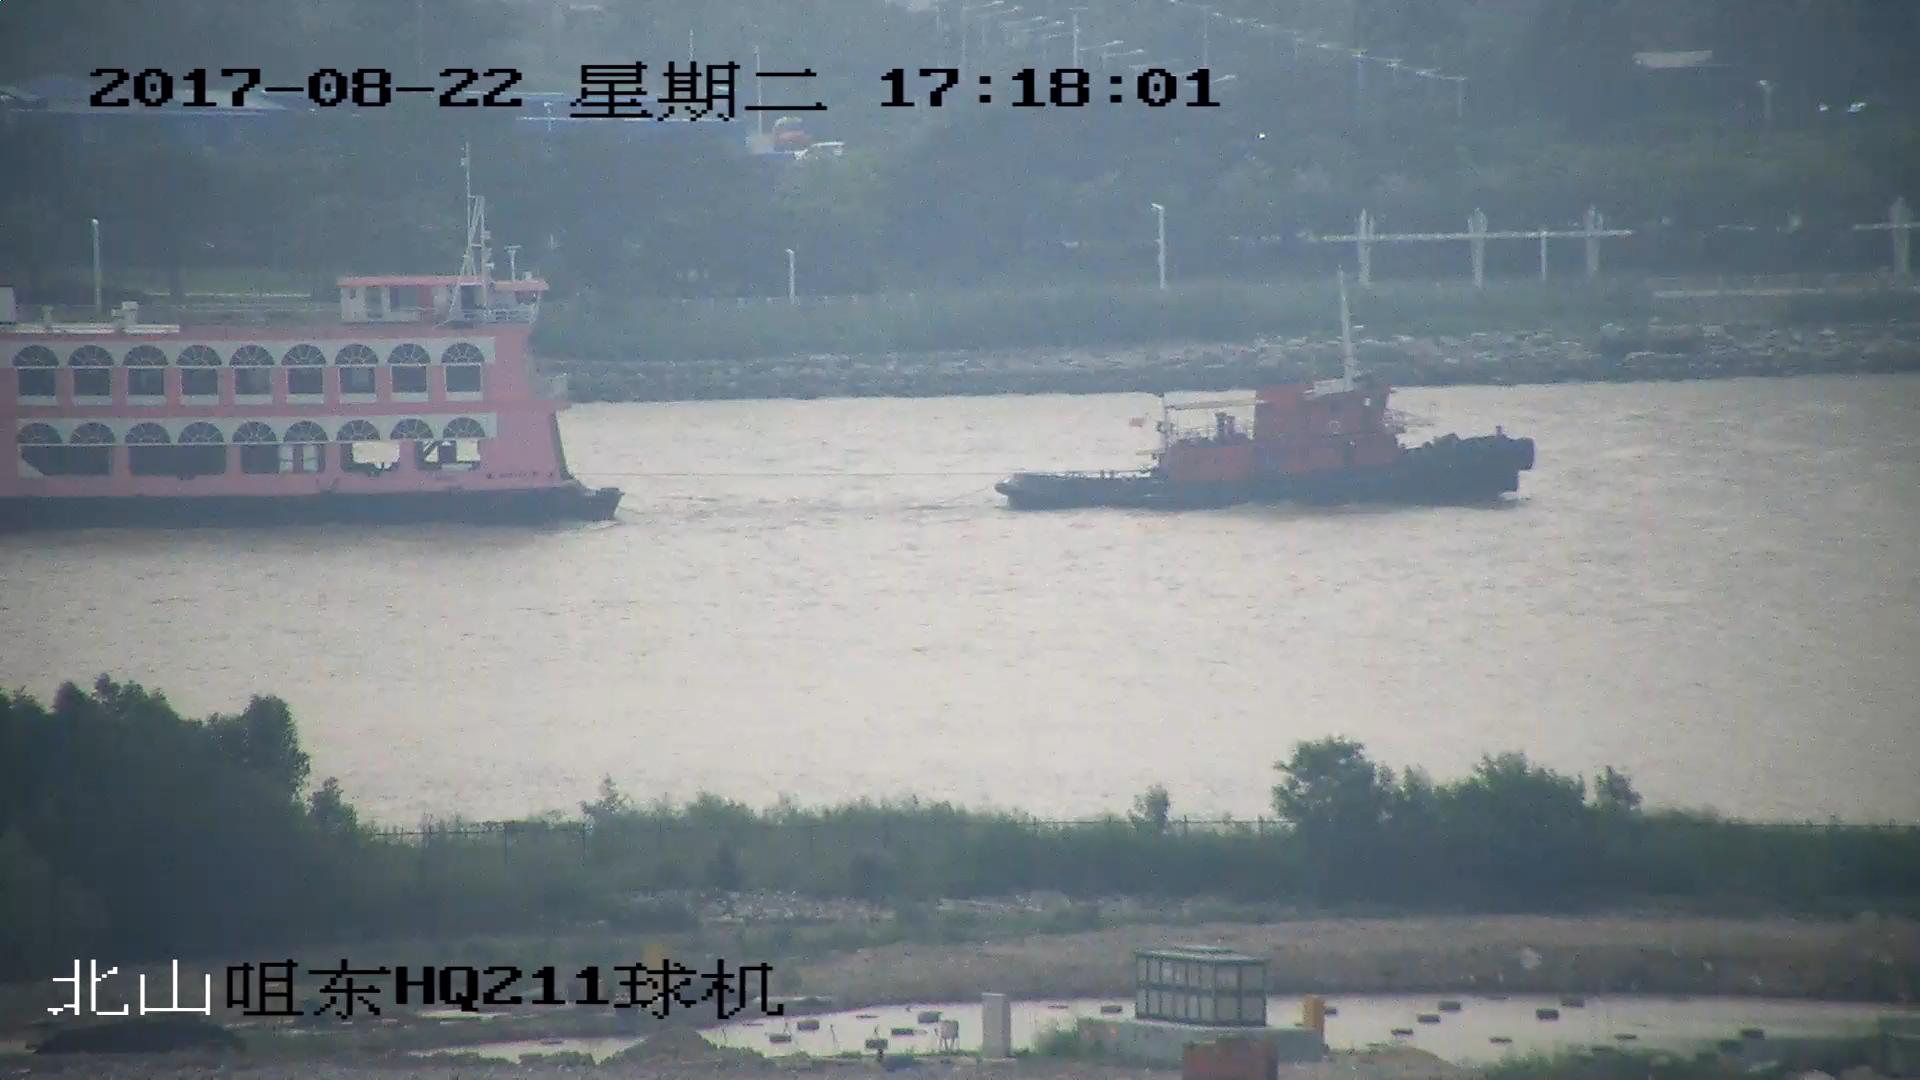fishing boat: (990, 289, 1540, 511)
passenger ship: (1, 188, 626, 527)
